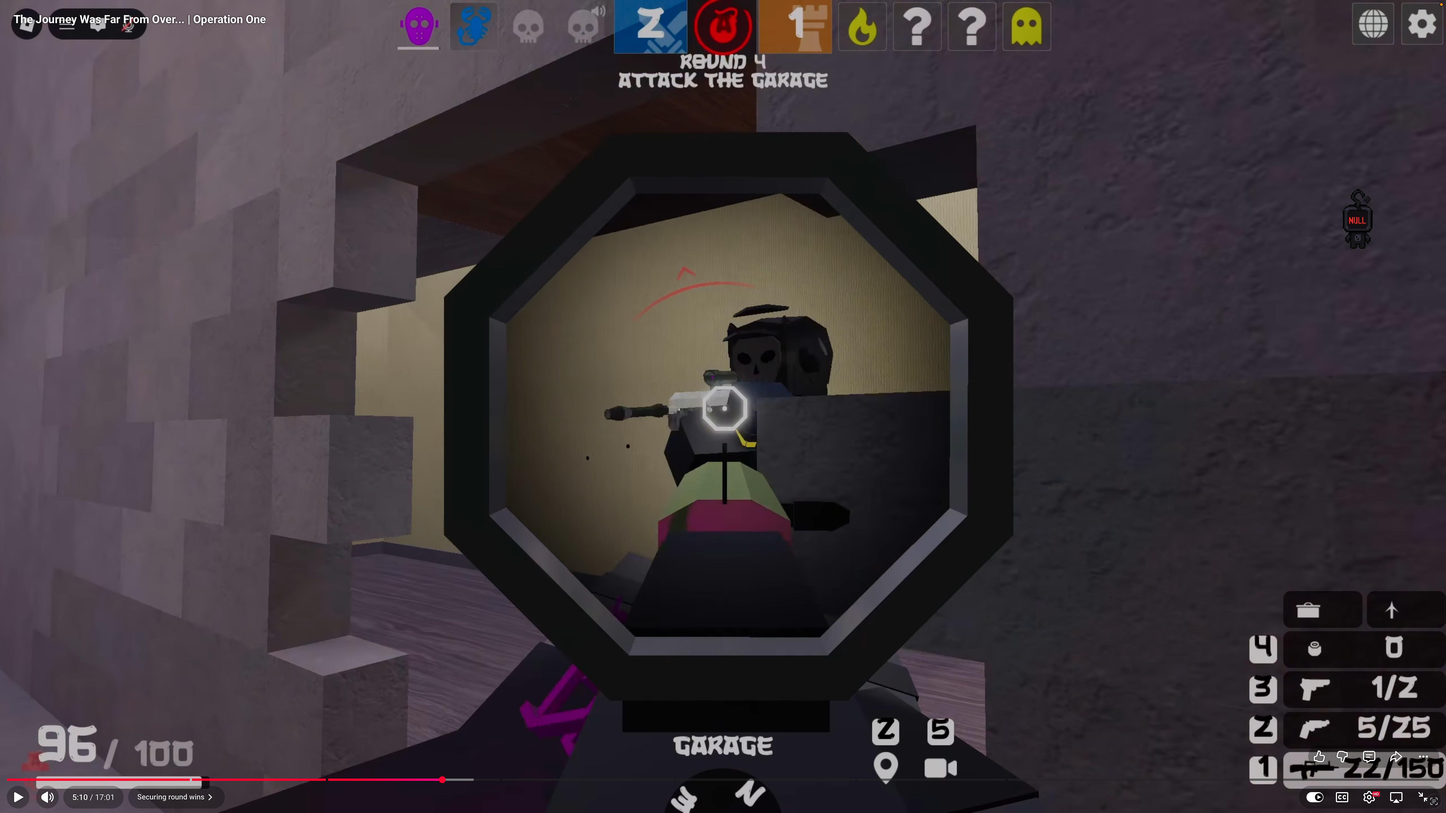enemy: (719, 304, 849, 496)
